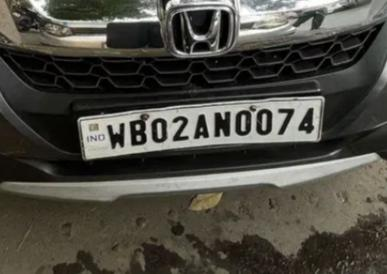0: (148, 114, 170, 146), (254, 105, 274, 136), (234, 110, 252, 138)
2: (171, 114, 190, 144)
4: (298, 106, 319, 137)
7: (278, 104, 297, 139)
A: (192, 112, 211, 143)
B: (128, 118, 148, 146)
N: (213, 107, 233, 140)
W: (105, 120, 127, 150)
